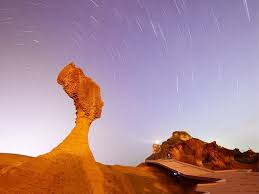yehliu: (52, 61, 115, 123)
